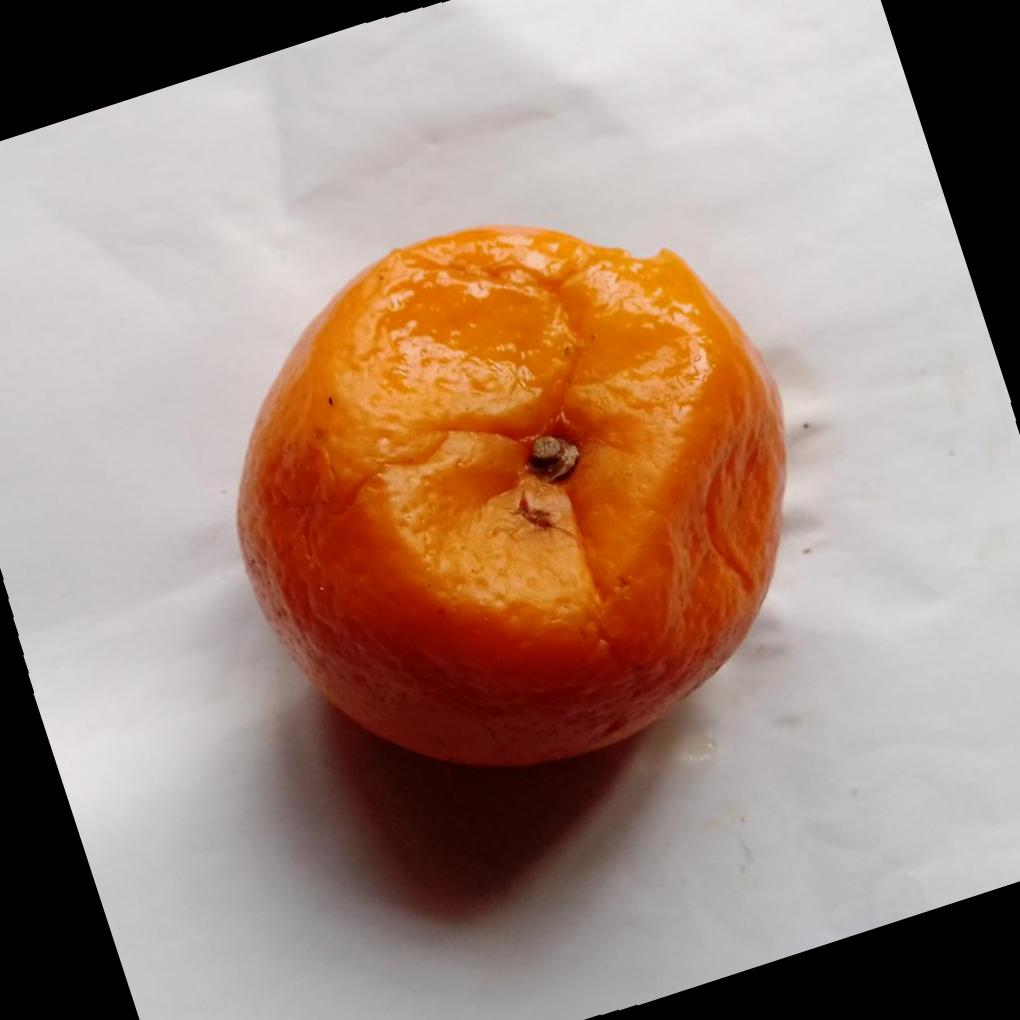FreshOrange: (237, 221, 792, 767)
